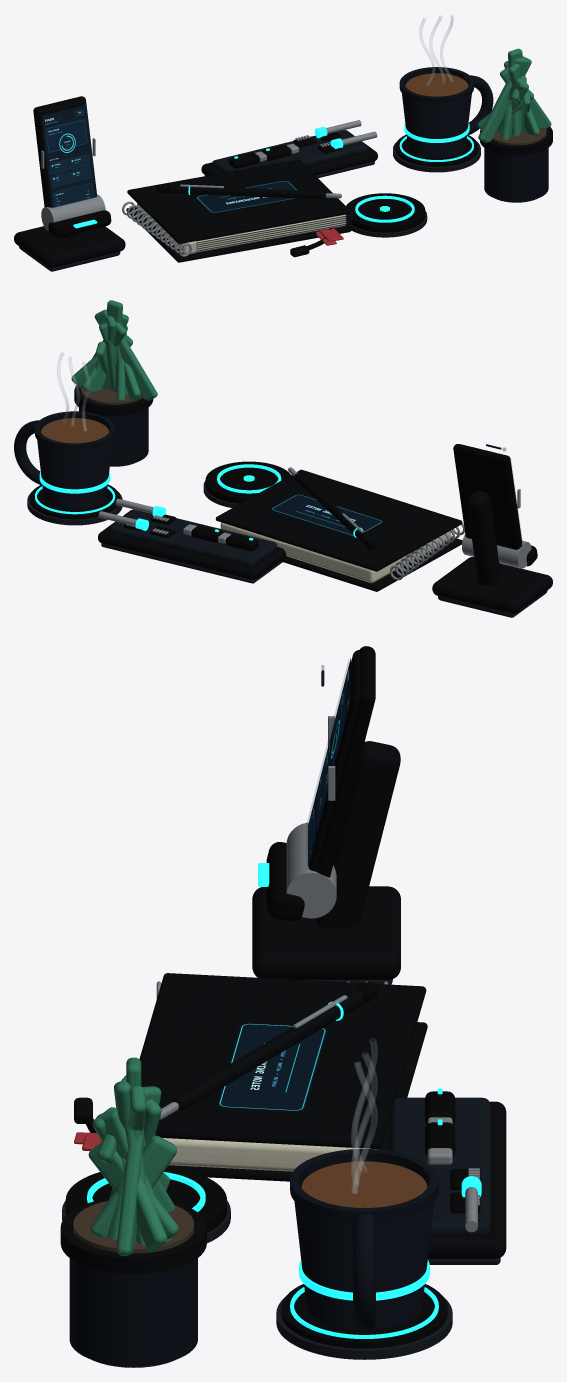
The model's file is desk-accessories.glb.
The picture shows the model from 3 angles, top to bottom: view 1: azimuth 30°, elevation 25°; view 2: azimuth 150°, elevation 25°; view 3: azimuth 270°, elevation 25°; orthographic projection. The views are drawn at different scales.
Parts seen in each view (by area): view 1: Notebook_TopCover, Phone_Display, Phone_GlassOverlay, Mug_CeramicBody, Succulent_Pot, PhoneStand_Base, ChargingPad_Body, Notebook_PageBlock, Organizer_Inset, Notebook_BottomCover, Pen_MainBarrel, Notebook_Badge (+19 smaller); view 2: Notebook_TopCover, Phone_Body, PhoneStand_Base, Mug_CeramicBody, Organizer_Inset, Organizer_Tray, PhoneStand_Stem, ChargingPad_Body, Notebook_PageBlock, Succulent_Pot, Notebook_Badge, Notebook_BottomCover (+17 smaller); view 3: Notebook_TopCover, Succulent_Pot, Mug_CeramicBody, PhoneStand_Base, PhoneStand_Stem, Organizer_Inset, Notebook_Badge, Mug_CoffeeSurface, Mug_Rim, Organizer_Tray, Succulent_PotRim, Notebook_PageBlock (+22 smaller).
Boxes of the visible parts, box(x1,y1,x2,y2) form: Notebook_TopCover: box(127, 159, 350, 243); Phone_Display: box(41, 105, 96, 207); Phone_GlassOverlay: box(42, 105, 96, 207); Mug_CeramicBody: box(402, 82, 471, 157); Succulent_Pot: box(484, 148, 548, 201); PhoneStand_Base: box(14, 226, 125, 268); ChargingPad_Body: box(346, 193, 425, 232); Notebook_PageBlock: box(137, 203, 346, 254); Organizer_Inset: box(212, 130, 367, 172); Notebook_BottomCover: box(126, 207, 351, 262); Pen_MainBarrel: box(167, 185, 325, 199); Notebook_Badge: box(197, 181, 296, 212); Notebook_TopCover: box(215, 469, 462, 571); Phone_Body: box(453, 444, 522, 549); PhoneStand_Base: box(432, 557, 552, 613); Mug_CeramicBody: box(37, 428, 112, 509); Organizer_Inset: box(109, 509, 277, 565); Organizer_Tray: box(98, 509, 286, 579); PhoneStand_Stem: box(467, 490, 501, 586); ChargingPad_Body: box(205, 461, 290, 503); Notebook_PageBlock: box(220, 522, 451, 582); Succulent_Pot: box(79, 407, 148, 465); Notebook_Badge: box(272, 494, 382, 535); Notebook_BottomCover: box(281, 538, 462, 591); Notebook_TopCover: box(139, 973, 426, 1148); Succulent_Pot: box(69, 1258, 197, 1366); Mug_CeramicBody: box(294, 1179, 434, 1329); PhoneStand_Base: box(252, 886, 400, 979); PhoneStand_Stem: box(315, 741, 400, 927); Organizer_Inset: box(389, 1097, 490, 1234); Notebook_Badge: box(218, 1023, 326, 1110); Mug_CoffeeSurface: box(301, 1161, 427, 1207); Mug_Rim: box(290, 1149, 438, 1221); Organizer_Tray: box(378, 1101, 506, 1258); Succulent_PotRim: box(60, 1198, 206, 1274); Notebook_PageBlock: box(163, 1138, 377, 1171).
Bounding box in the file's own units: 0.8645 × 0.2508 × 0.3535.
18 materials, 7 textured.
